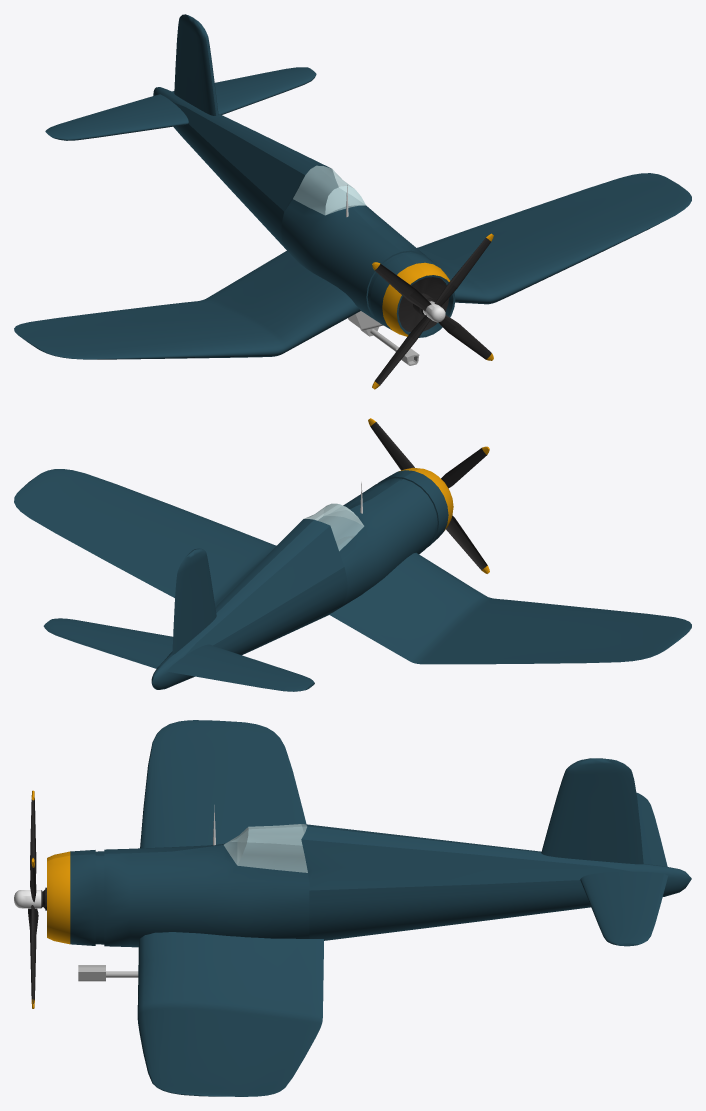
The picture shows the model from 3 angles, top to bottom: view 1: azimuth 30°, elevation 25°; view 2: azimuth 150°, elevation 25°; view 3: azimuth 270°, elevation 25°; orthographic projection. The views are drawn at different scales.
Visible parts, largest first — view 1: Circle.002, propeller, Cube.001; view 2: Circle.002, propeller; view 3: Circle.002, propeller, Cube.001.
Boxes of the visible parts, x1,y1,x2,y2 form: Circle.002: (14, 14, 691, 359); propeller: (372, 233, 493, 389); Cube.001: (348, 311, 419, 365); Circle.002: (14, 467, 691, 691); propeller: (368, 418, 489, 573); Circle.002: (47, 720, 691, 1096); propeller: (14, 790, 46, 1008); Cube.001: (78, 965, 138, 981).
Bounding box in the file's own units: 9.92 × 2.72 × 7.56.
